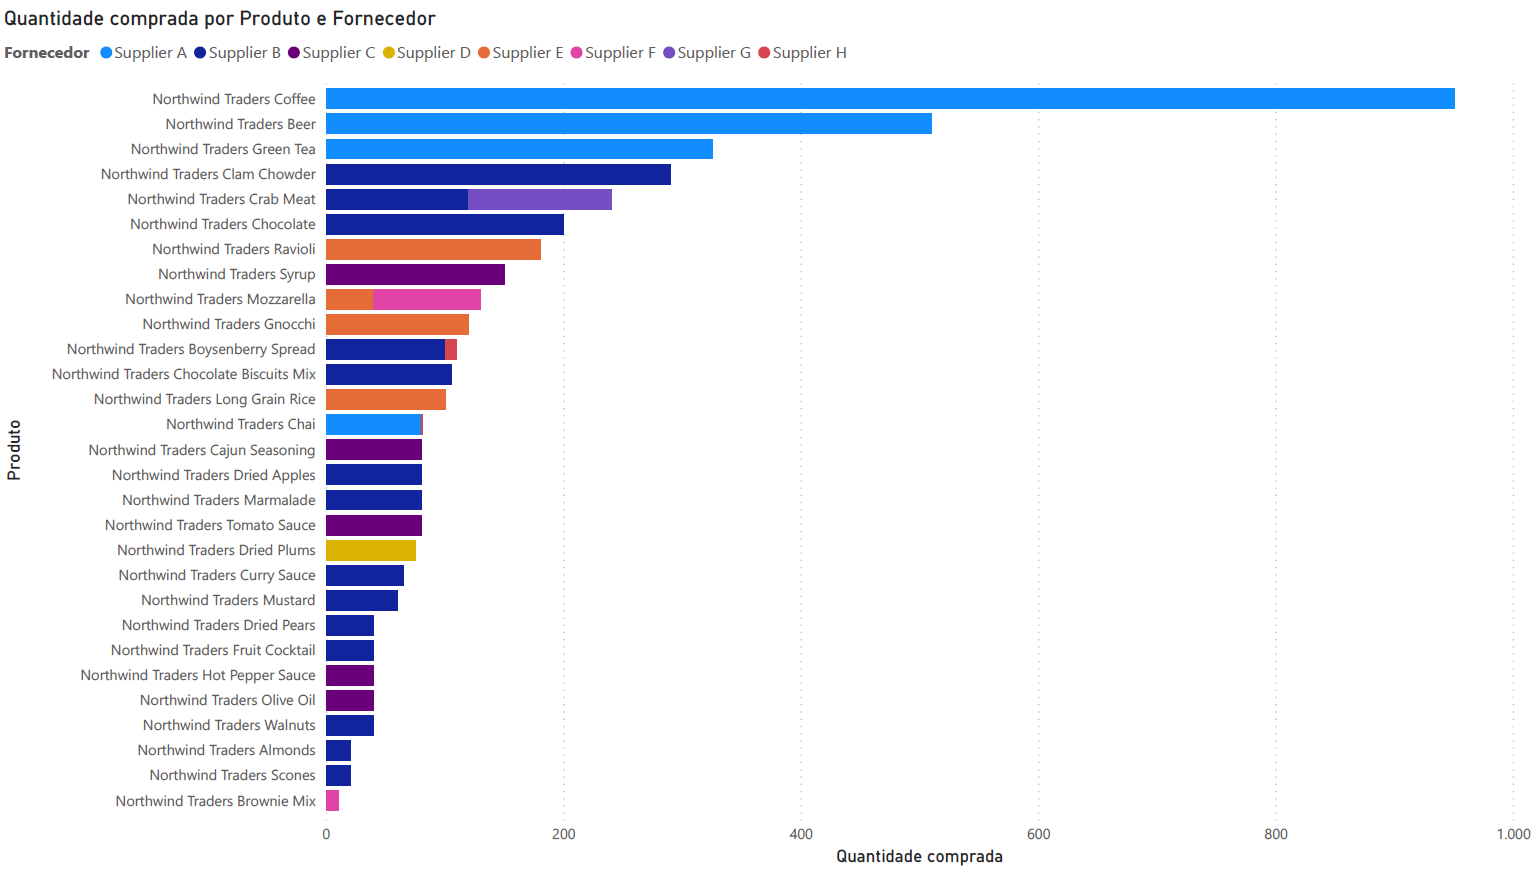

The dashboard page shown, as its layout file describes it:
{"tool":"powerbi","page":{"name":"Quantidade de cada produto por fornecedor","canvas":[1280,720],"ordinal":2},"visuals":[{"type":"barChart","fields":{"Category":["dw_northwind product_dim.name"],"Y":["Sum(dw_northwind purchase_fact.quantity)"],"Series":["dw_northwind supplier_dim.company"]},"box":[0,0,1280,719.8],"z":0}]}

Visuals, with their boxes in screenshot pixels (x1, y1, x2, y2), scaled from the page's 1280x720 canvas onto the 1537x871 screenshot:
barChart - dw_northwind product_dim.name x Sum(dw_northwind purchase_fact.quantity): [0,0,1536,870]
